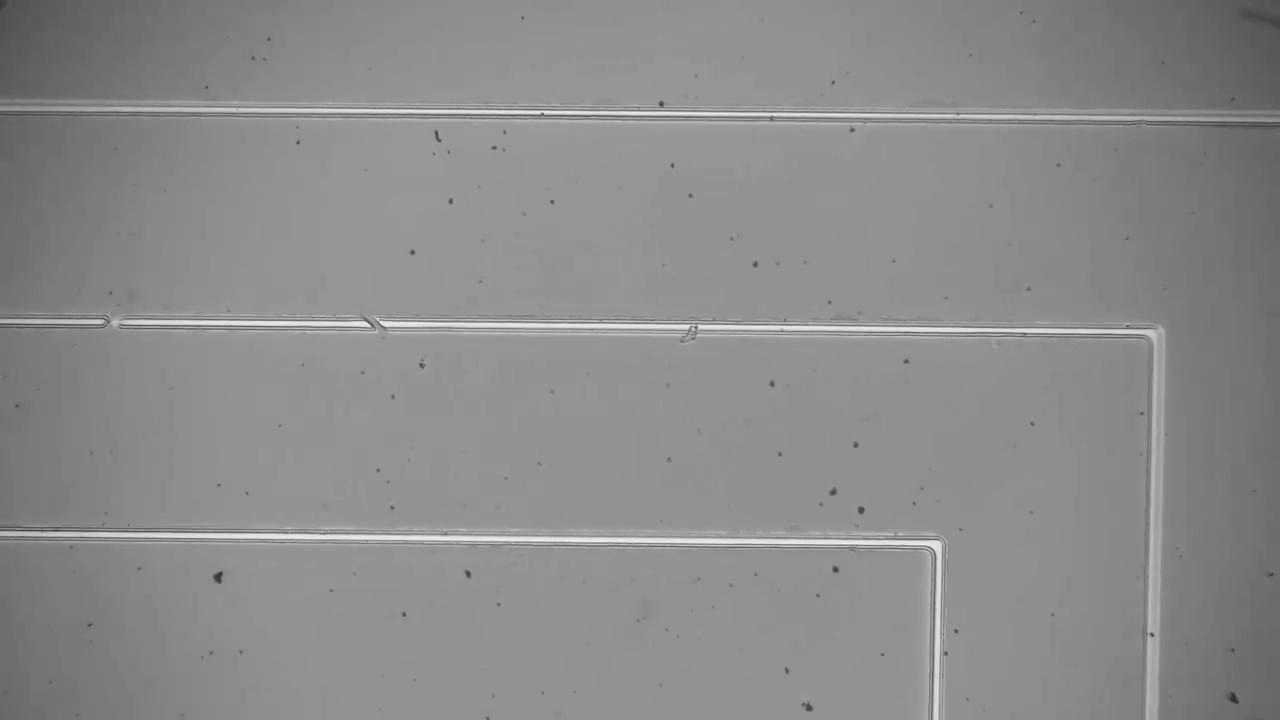open: (87, 300, 138, 342), (351, 307, 394, 340)
stains_enbedded: (668, 310, 709, 363)
